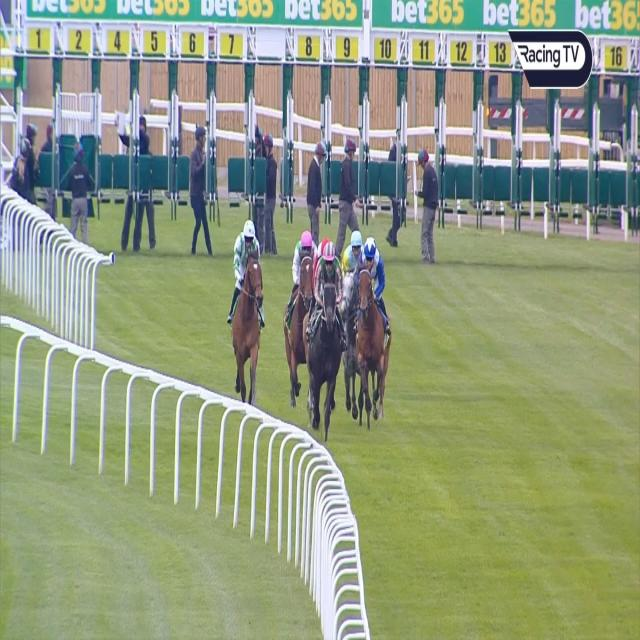horses-racing: (232, 211, 264, 404), (312, 242, 342, 431), (356, 235, 387, 417), (289, 222, 314, 374), (341, 224, 362, 391)
